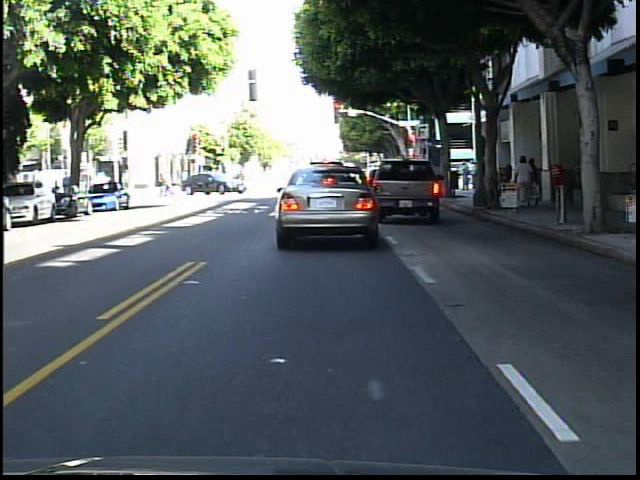person: (516, 154, 536, 209), (528, 154, 542, 208), (61, 169, 79, 206)
